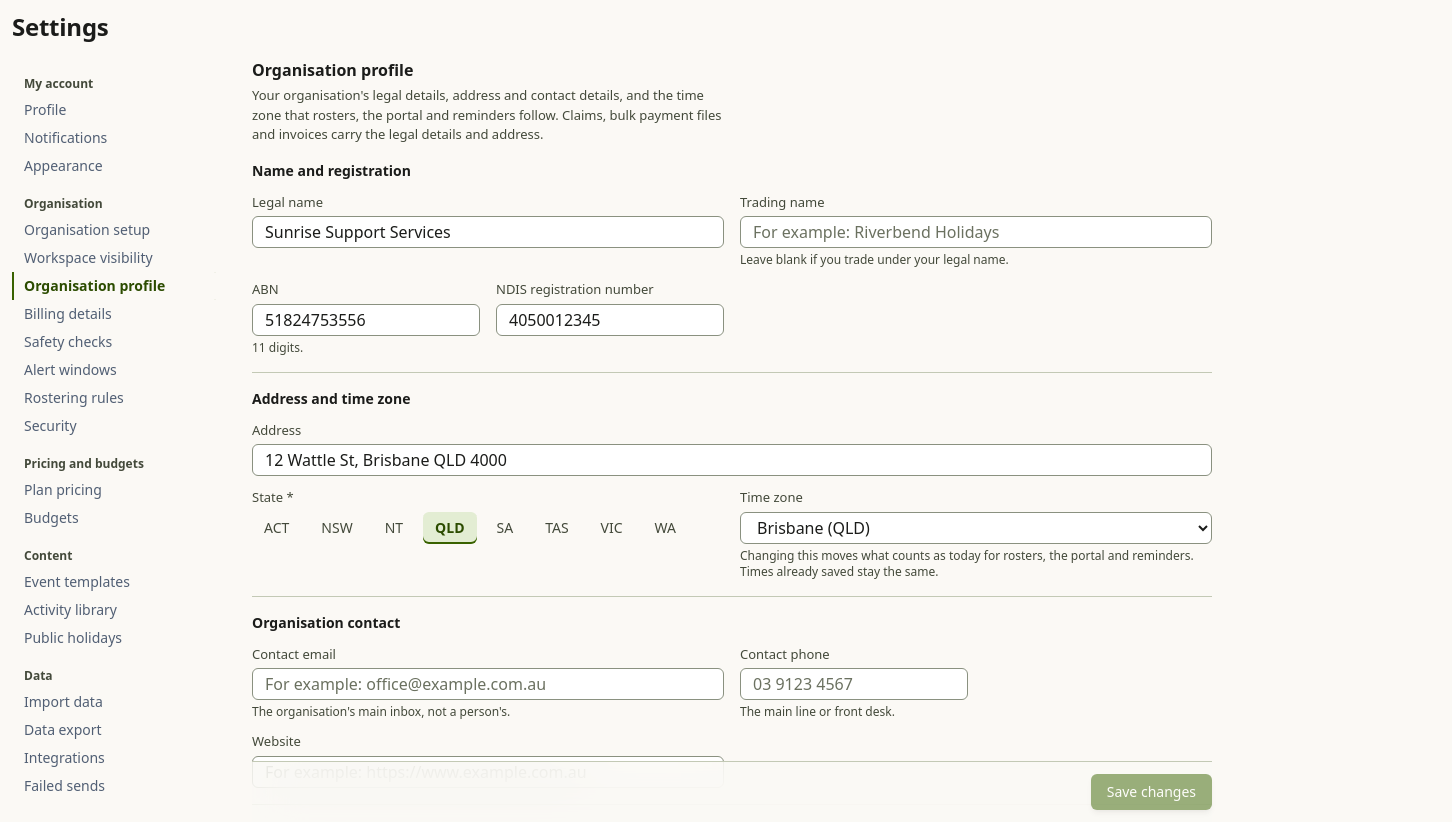
Organisation profile › says which fields the server needs when it refuses a blank one without a message
The width and height of the screenshot is (1452, 822).
Clear the field labelled "ABN" at (366, 320), box top-left (252, 304), bottom-right (480, 336)
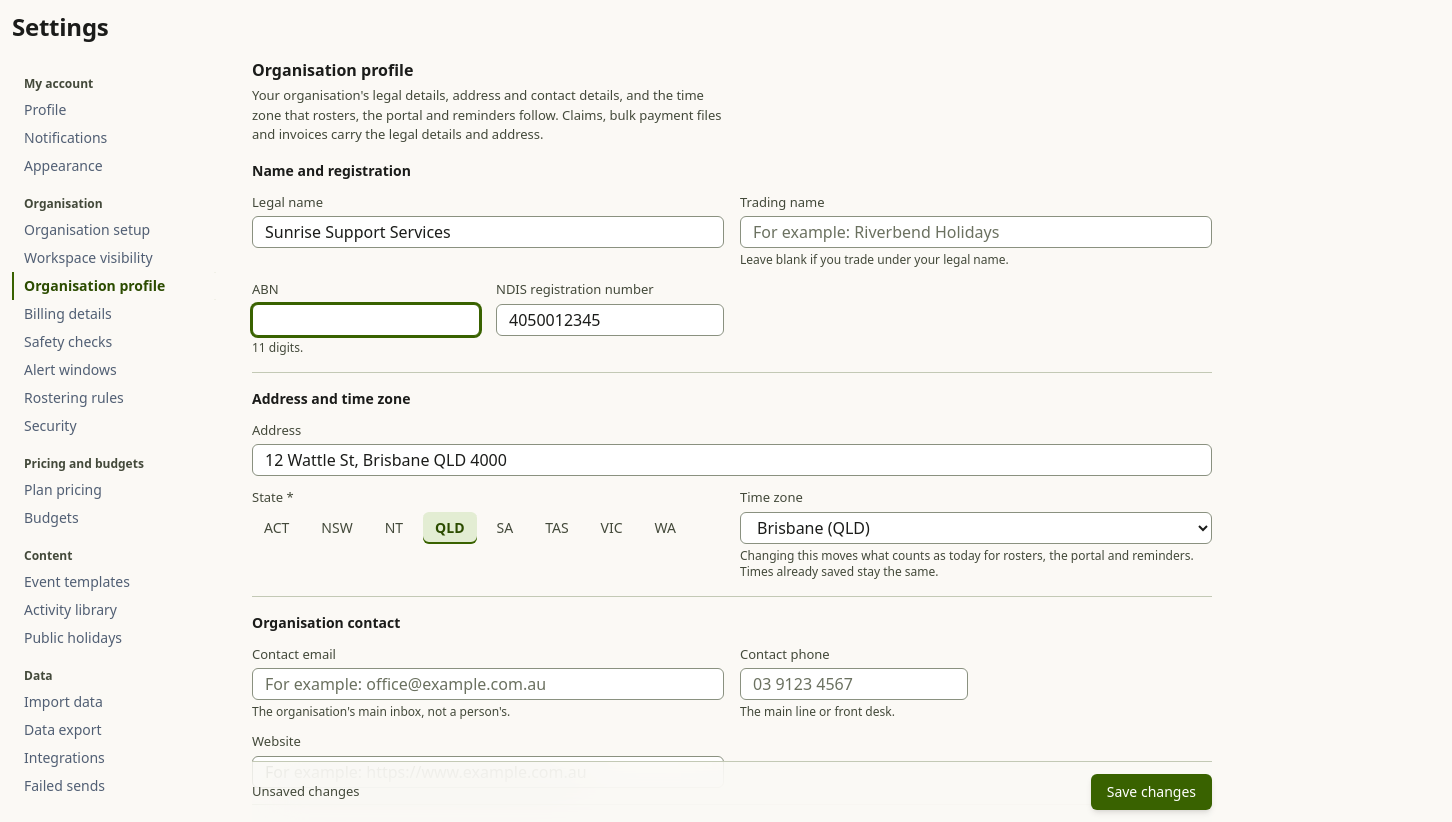
Click the button "Save changes".
click(1151, 792)  # box top-left (1091, 774), bottom-right (1212, 810)
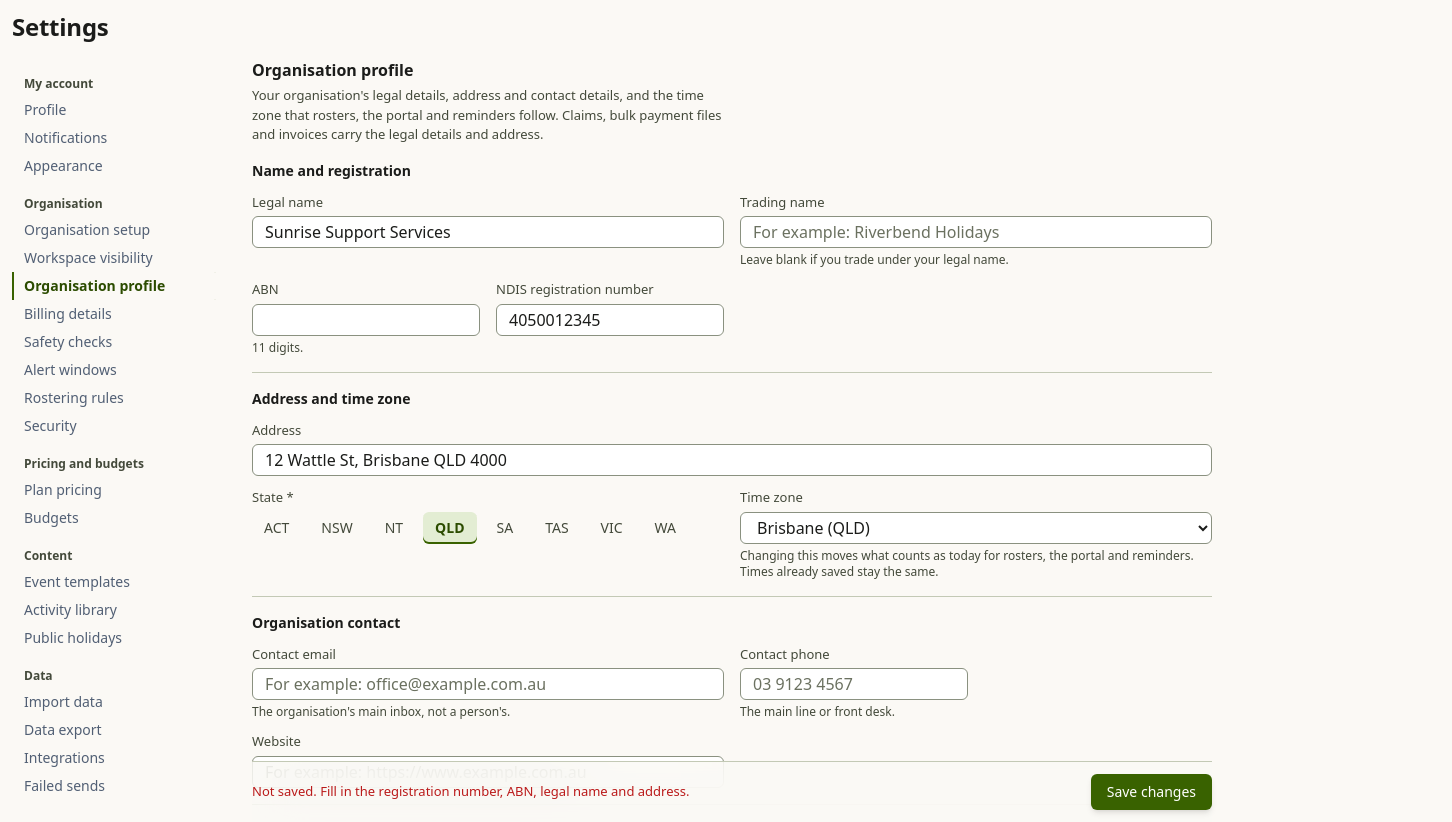
expect the button "Save changes" is enabled: met, box top-left (1091, 774), bottom-right (1212, 810)
expect the message reads "Not saved. Fill in the registration number, ABN, legal name and address.": met, box top-left (252, 782), bottom-right (689, 800)
